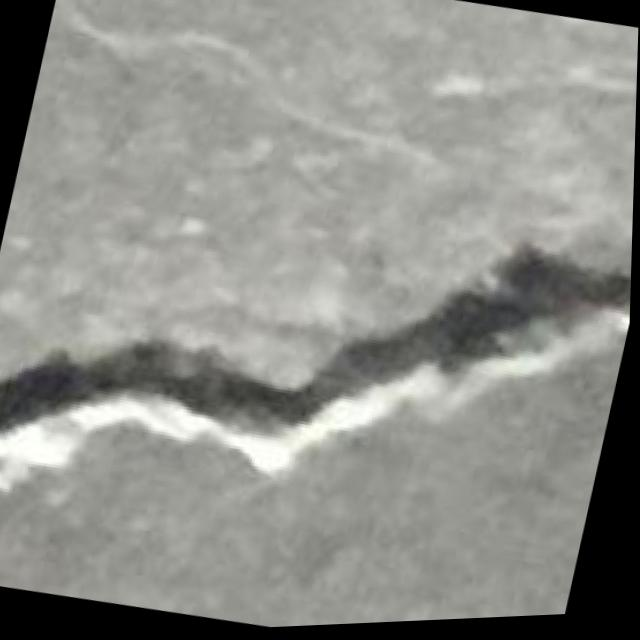Crack: (0, 140, 636, 613)
